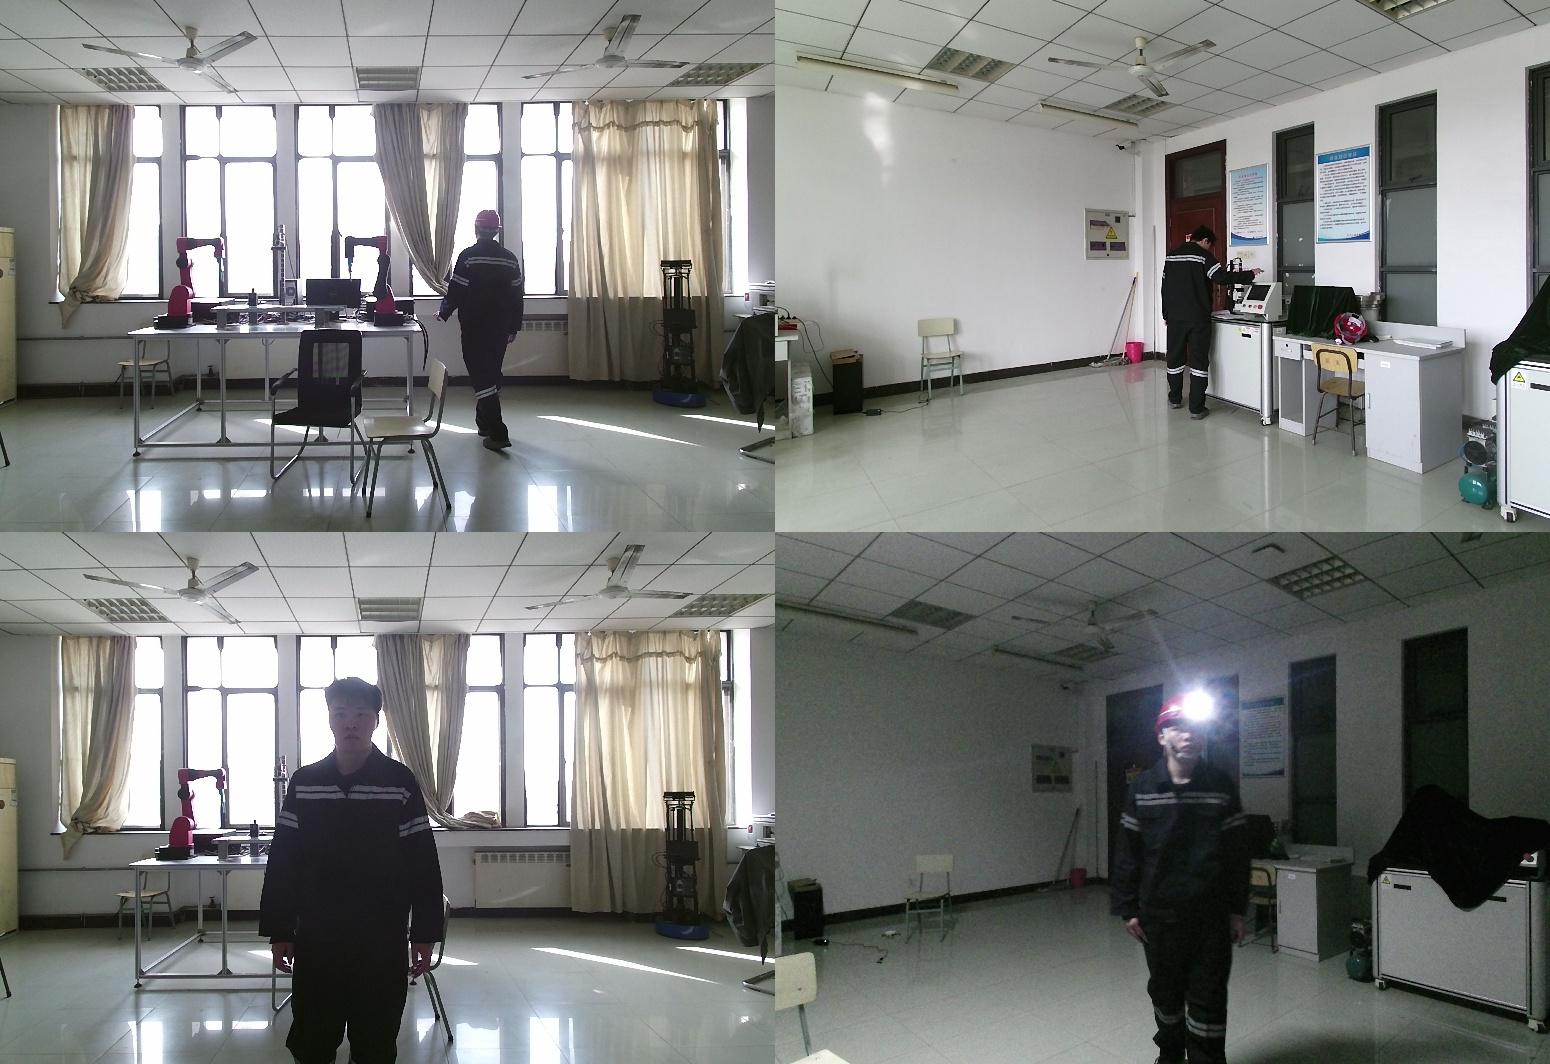person: (268, 678, 458, 1064), (1113, 695, 1259, 1064), (439, 207, 529, 455), (1161, 231, 1275, 420)
